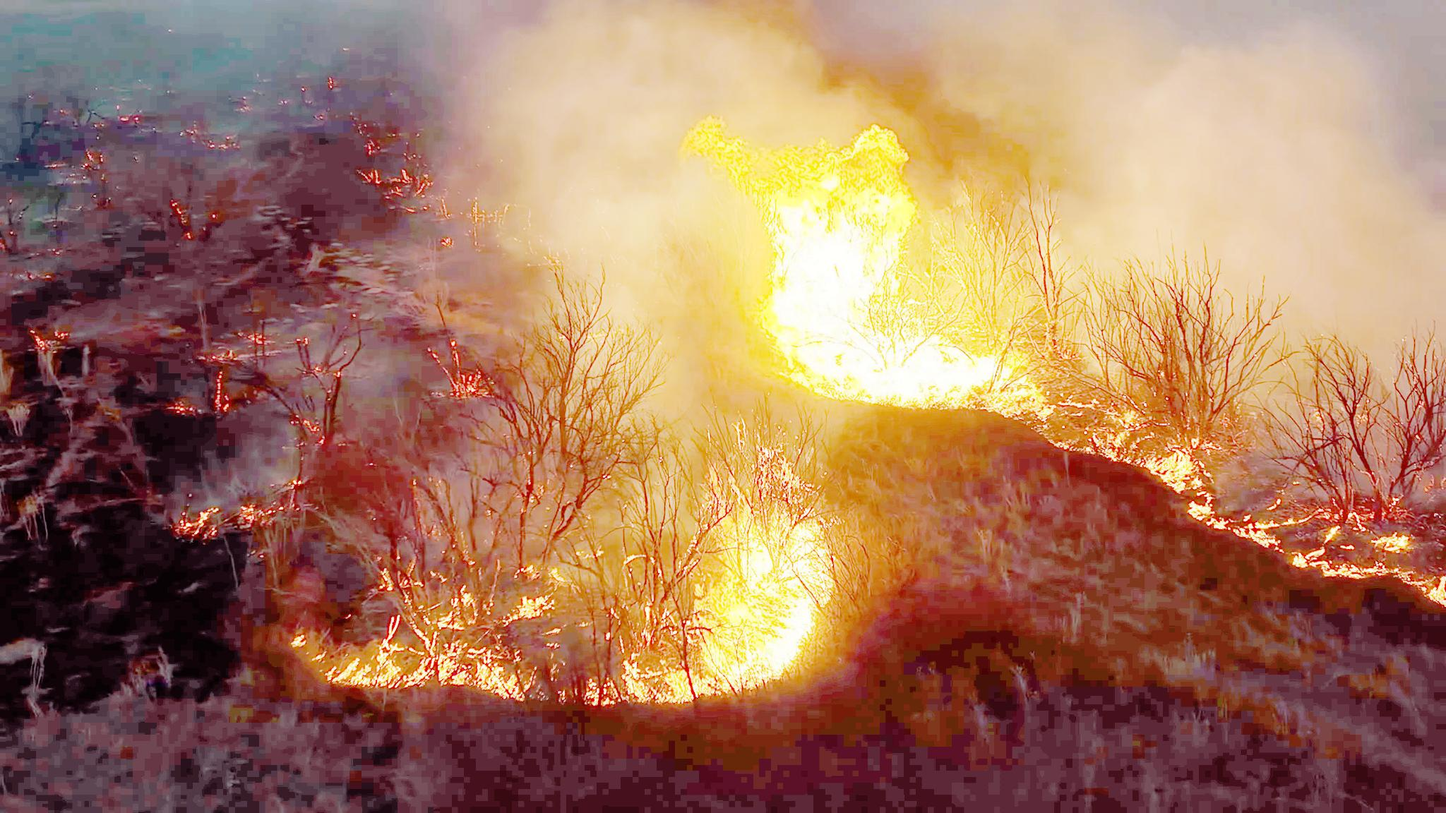fire: (702, 78, 1079, 409), (643, 432, 861, 686)
smoke: (1119, 19, 1419, 282)
